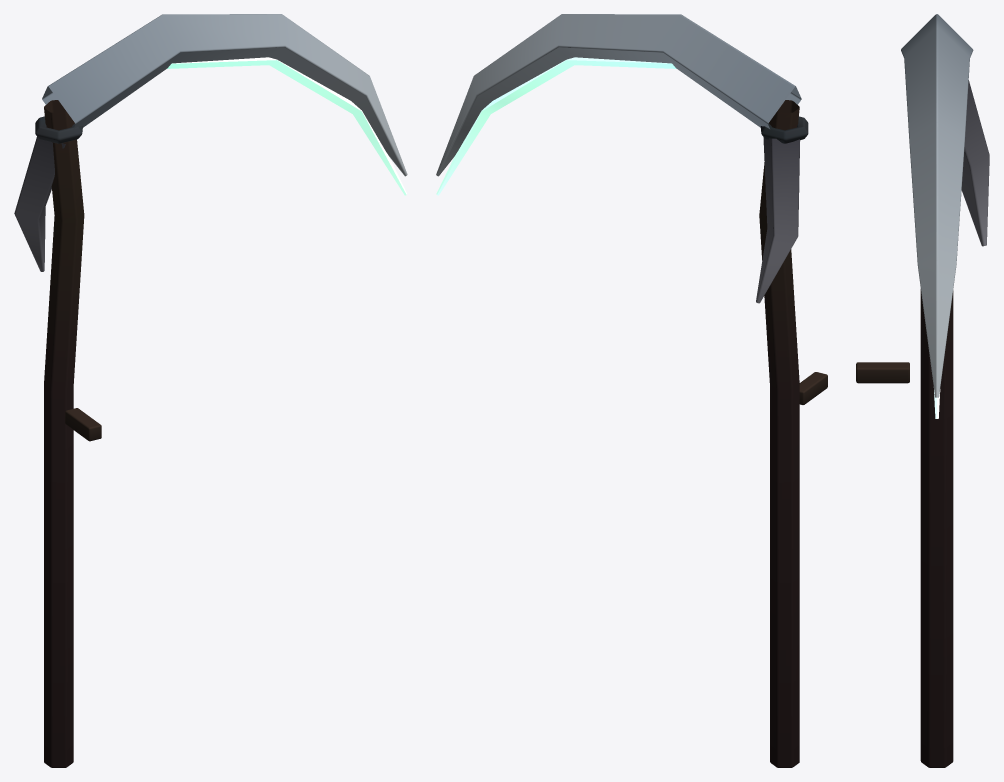
The model's file is lg_gravewind_scythe.glb.
3 views of the same model, side by side, from view 1: azimuth 30°, elevation 25°; view 2: azimuth 150°, elevation 25°; view 3: azimuth 270°, elevation 25° (orthographic). The views are drawn at different scales.
Parts seen in each view (by area): view 1: lg_gravewind_scythe, lg_gravewind_scythe_glow; view 2: lg_gravewind_scythe, lg_gravewind_scythe_glow; view 3: lg_gravewind_scythe.
Part boxes in pixels (x1,y1,x2,y2): lg_gravewind_scythe: (14, 14, 407, 767); lg_gravewind_scythe_glow: (167, 57, 406, 195); lg_gravewind_scythe: (436, 14, 827, 767); lg_gravewind_scythe_glow: (436, 57, 676, 195); lg_gravewind_scythe: (856, 14, 989, 767).
Size of the model in its own units: 1.41 by 2.59 by 0.3963.
